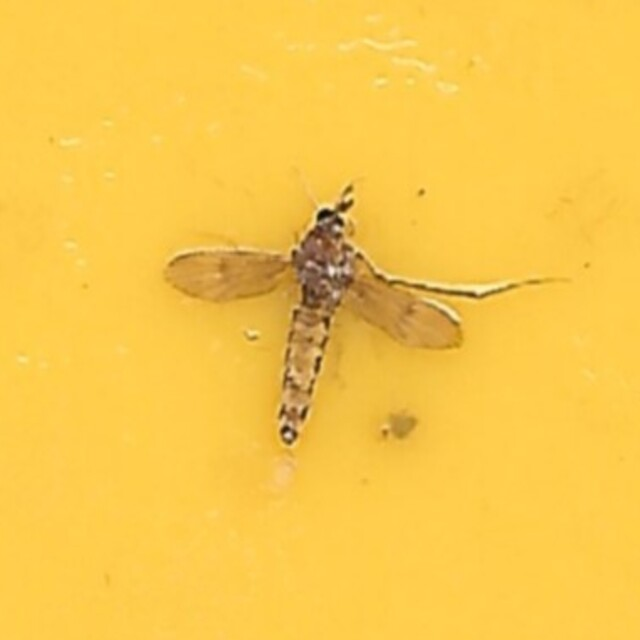Nematocera: (168, 194, 472, 446)
